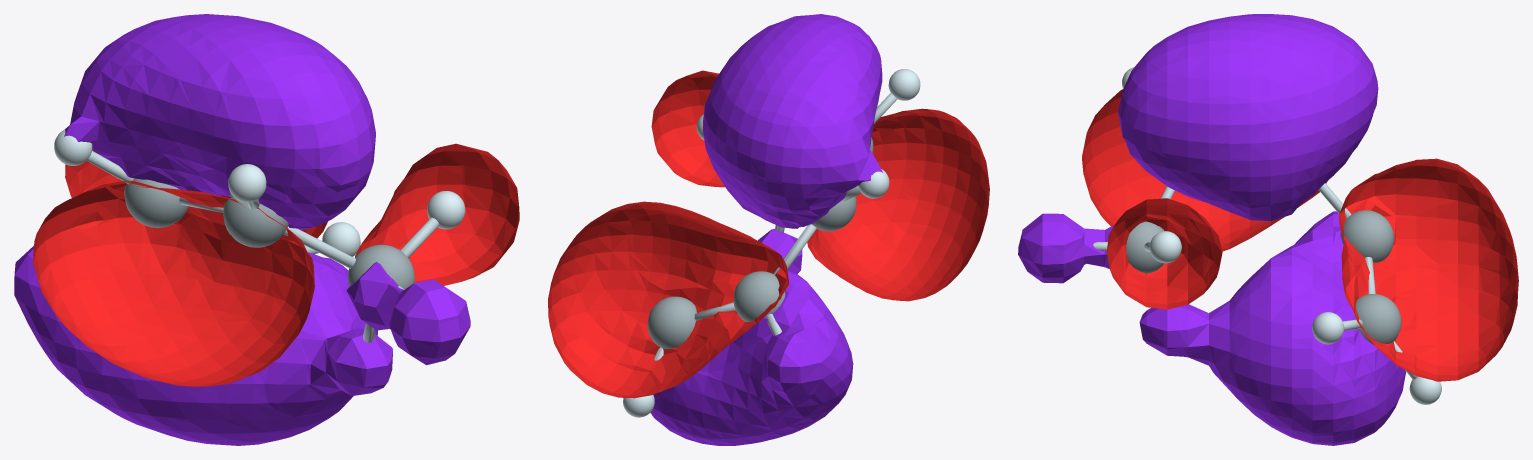
The picture shows the model from 3 angles, left to right: view 1: azimuth 30°, elevation 25°; view 2: azimuth 150°, elevation 25°; view 3: azimuth 270°, elevation 25°; orthographic projection. The views are drawn at different scales.
Parts seen in each view (by area): view 1: Renderer Node; view 2: Renderer Node; view 3: Renderer Node.
Boxes of the visible parts, x1,y1,x2,y2 form: Renderer Node: (14,14,519,445); Renderer Node: (548,14,989,445); Renderer Node: (1018,14,1518,445).
Size of the model in its own units: 4.96 by 5.26 by 6.21.
